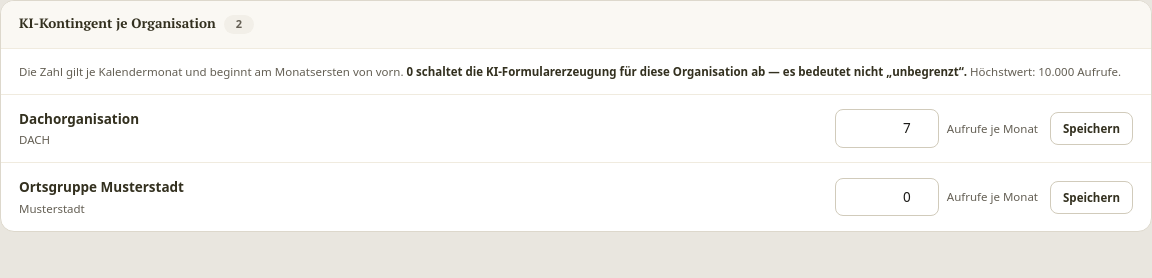
Test: KI-Kontingent je Organisation › lässt eine negative Zahl hinaus und zeigt den 400 des Servers
Replace the text in the number field labelled "Dachorganisation" with "-5" at (887, 129), box [835, 109, 939, 148]
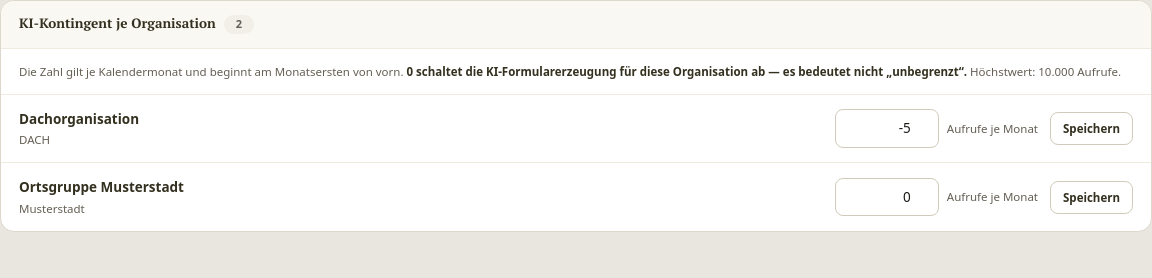
Click the button "Speichern" in the row of "Dachorganisation".
click(1092, 128)  # box [1050, 112, 1133, 145]
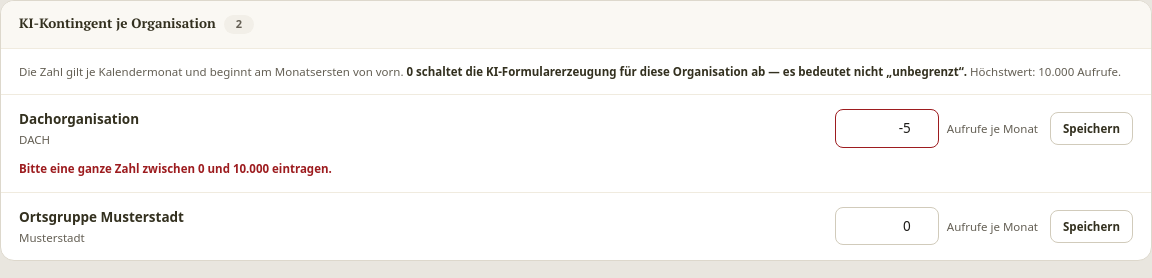
Result: the message shows "ganze Zahl zwischen 0 und 10.000" at [19, 161, 332, 176]
